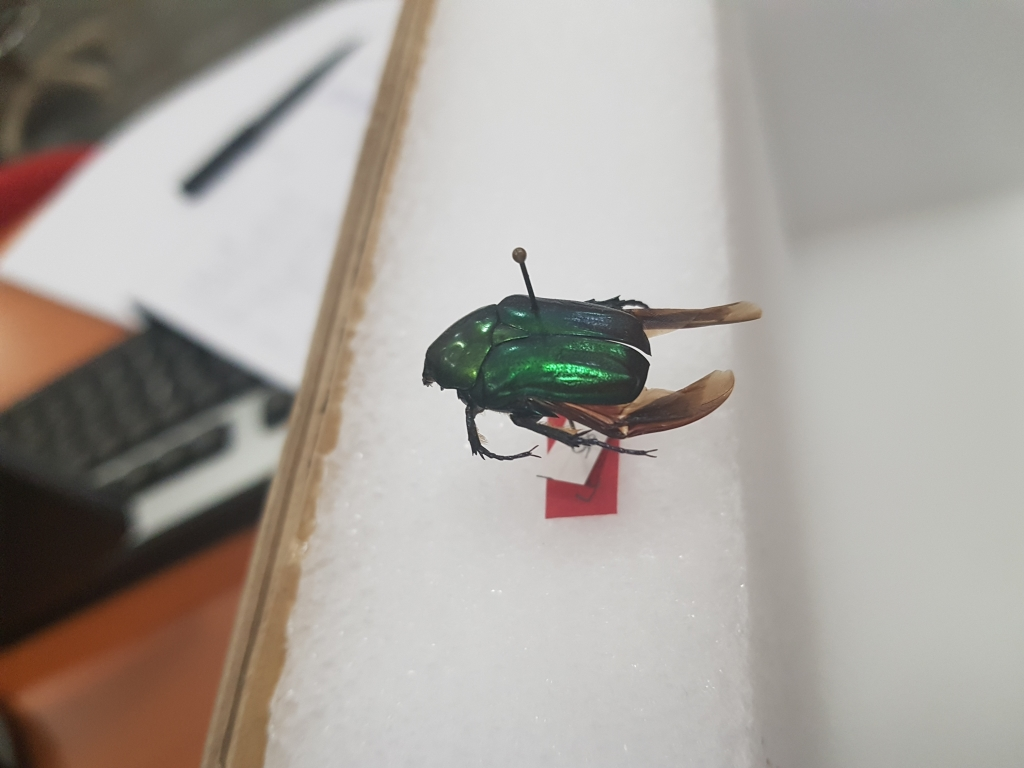Protaetia_besucheti: (411, 286, 774, 468)
